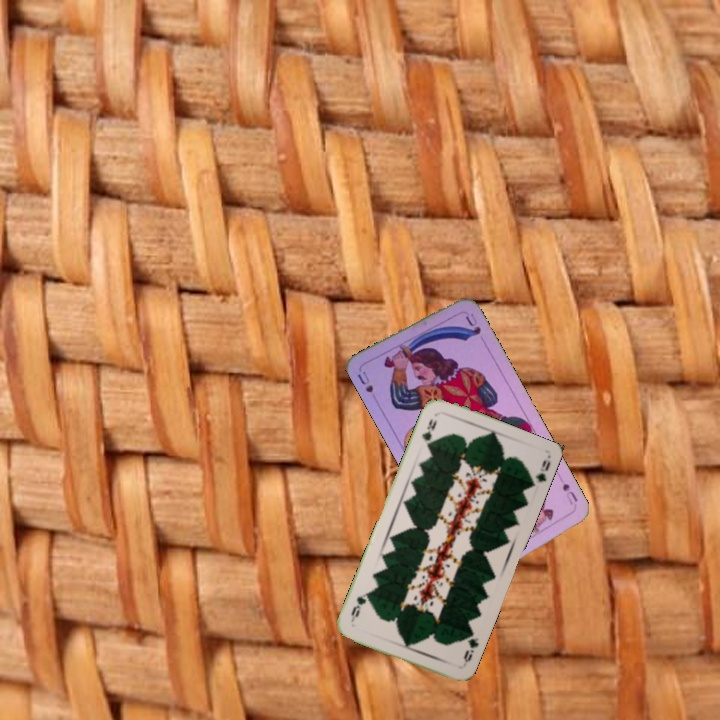G9: (459, 628, 481, 665), (418, 414, 440, 450)
SU: (558, 479, 580, 512), (353, 367, 378, 396)
